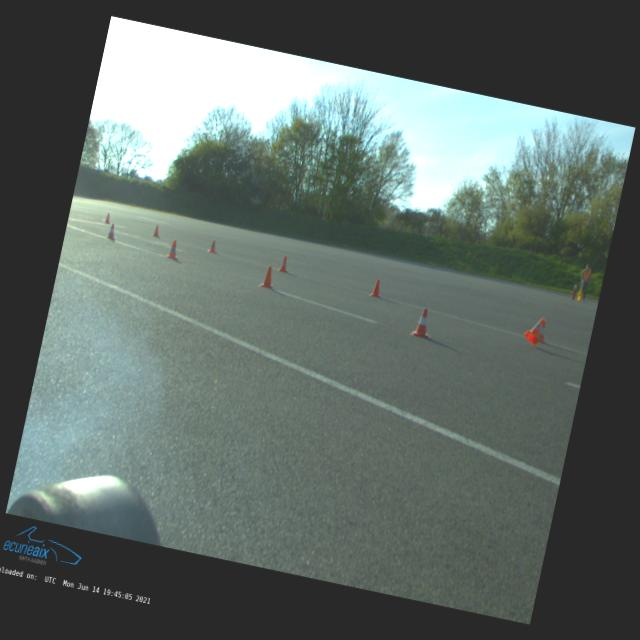orange_cone: (410, 307, 435, 338), (522, 314, 545, 346), (258, 264, 278, 288), (369, 277, 384, 298), (166, 239, 180, 259), (537, 322, 549, 344), (278, 255, 290, 272), (106, 222, 117, 238), (208, 239, 218, 252), (152, 224, 160, 237), (104, 212, 112, 224)
